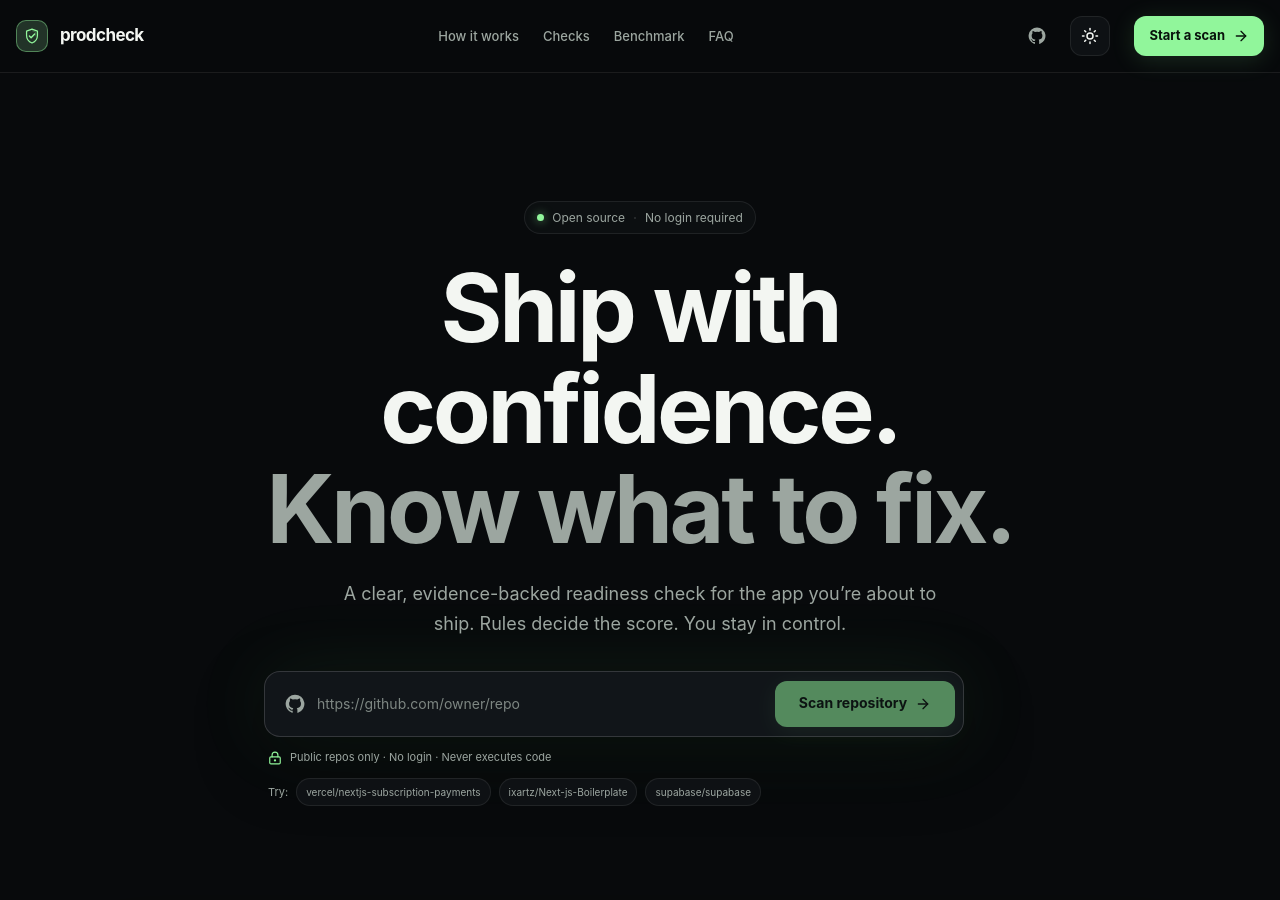
Test: marketing page › shows an inline error for non-GitHub URLs
Type "https://example.com/owner/repo" into the field named "Public GitHub repository URL".
click(540, 704); type("https://example.com/owner/repo")  # box [317,681,763,727]
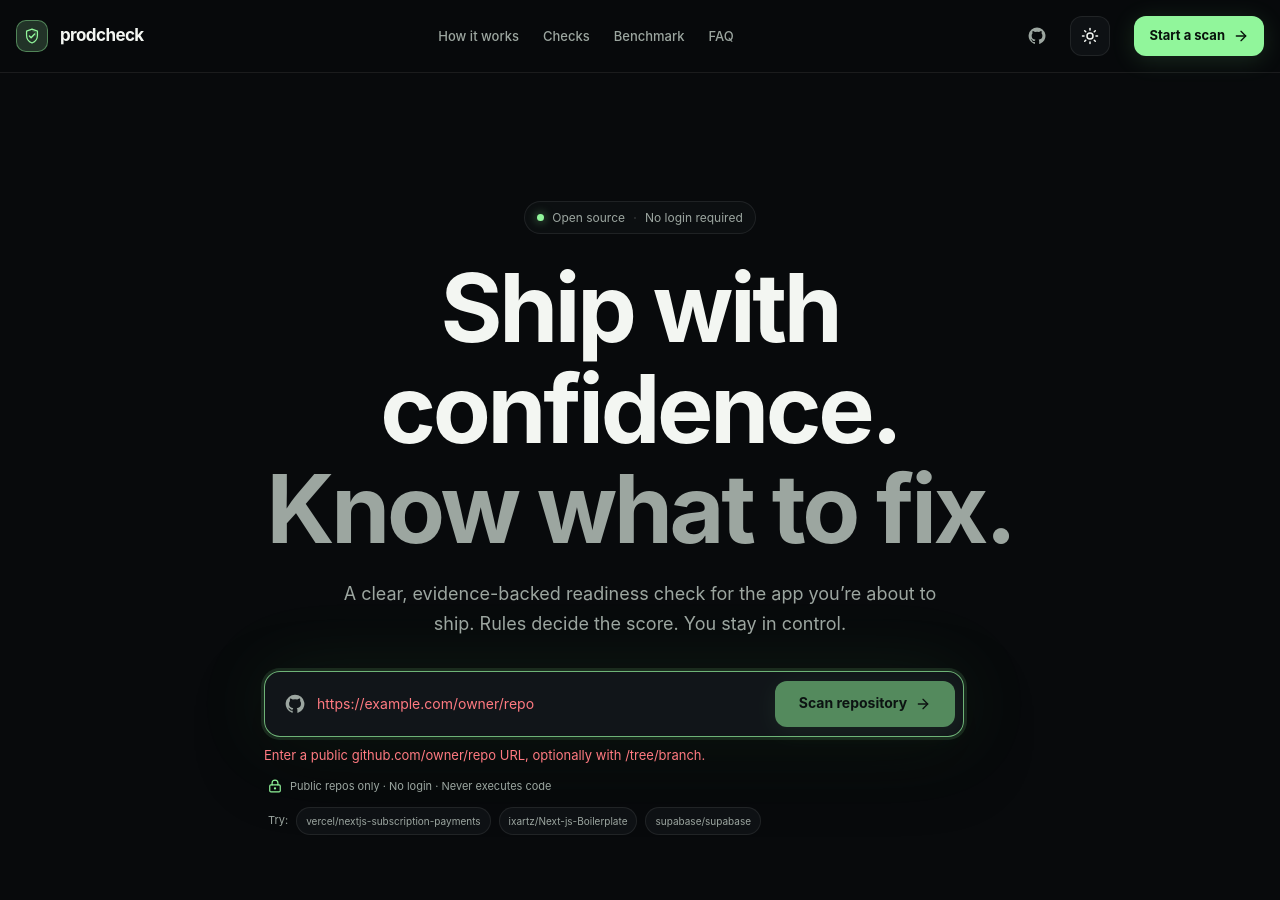
expect the button "Scan repository" is disabled: met, box [775,681,955,727]
expect the text "Enter a public github.com/owner/repo URL, optionally with /tree/branch." is shown: met, box [264,747,705,763]
